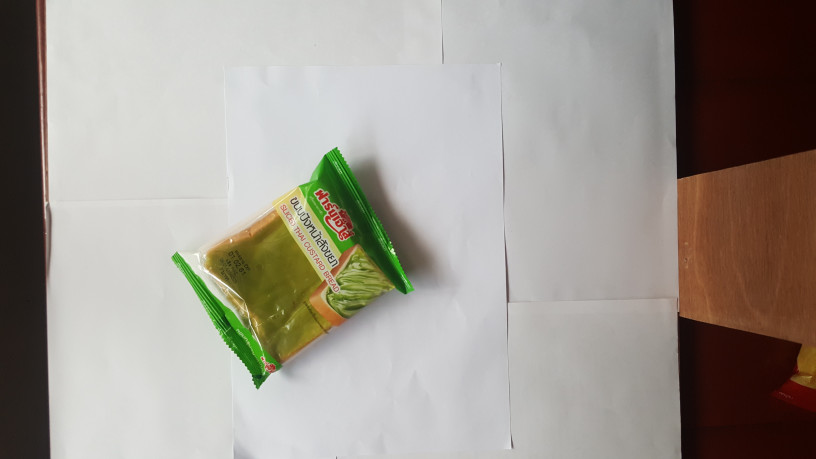farmhouse-bread-pandan: (165, 144, 425, 400)
